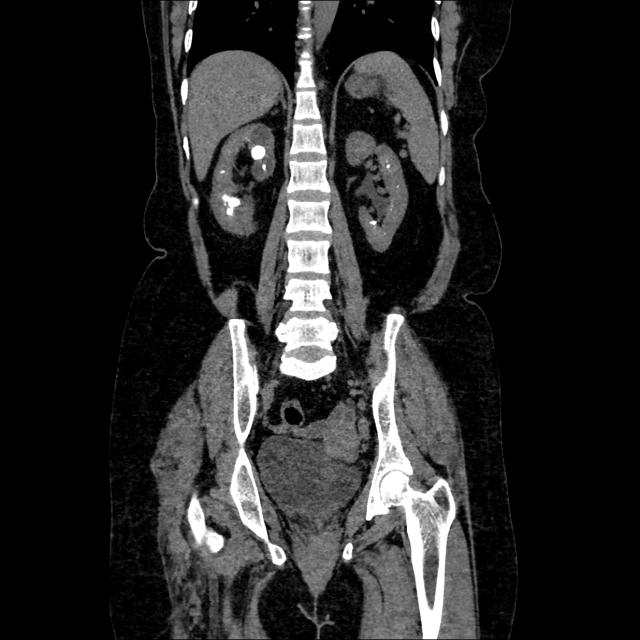kidney: (340, 126, 410, 256), (210, 136, 268, 243)
stone: (251, 141, 271, 175), (225, 190, 240, 221), (368, 213, 379, 234)
